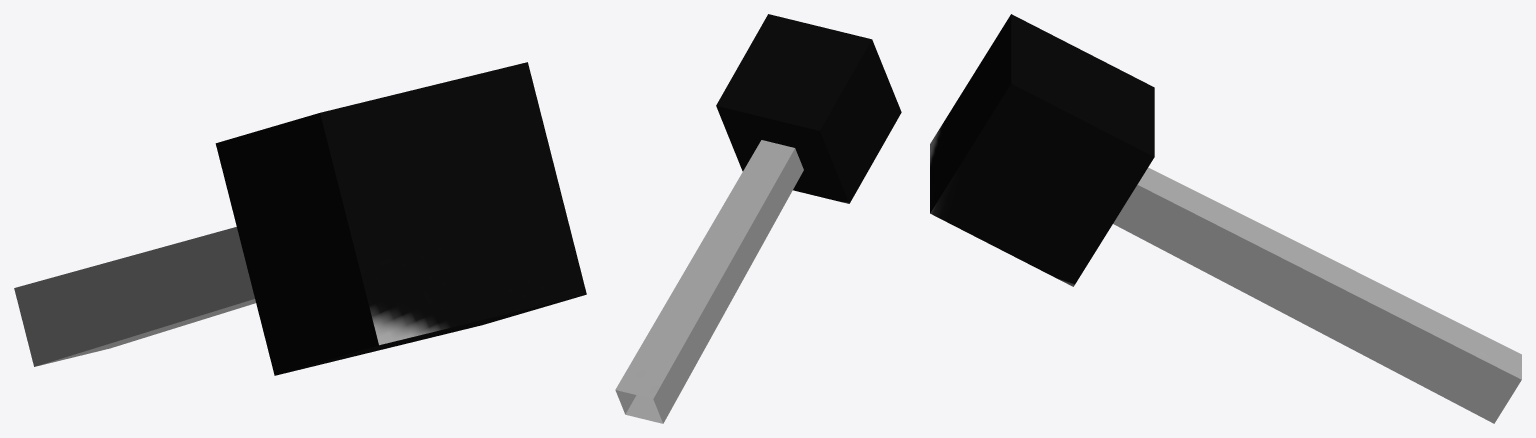
File: switch1.fbx
The picture shows the model from 3 angles, left to right: view 1: azimuth 30°, elevation 25°; view 2: azimuth 150°, elevation 25°; view 3: azimuth 270°, elevation 25°; orthographic projection. The views are drawn at different scales.
Visible parts, largest first — view 1: switch1; view 2: switch1; view 3: switch1.
Part boxes in pixels (box(x1,y1,x2,y2)): switch1: box(14, 62, 586, 375); switch1: box(615, 14, 901, 423); switch1: box(930, 14, 1521, 423).
Bounding box in the file's own units: 0.167 × 0.4053 × 0.5997.
